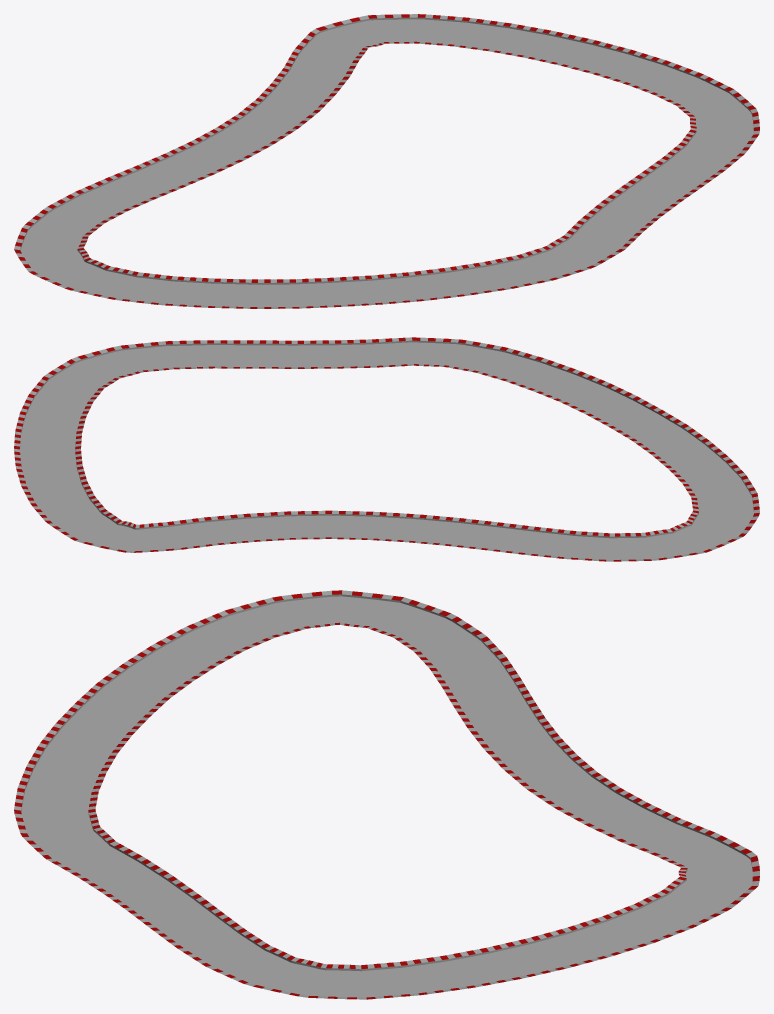
Rendered from track.obj.
The picture shows the model from 3 angles, top to bottom: view 1: azimuth 30°, elevation 25°; view 2: azimuth 150°, elevation 25°; view 3: azimuth 270°, elevation 25°; orthographic projection. The views are drawn at different scales.
Visible parts, largest first — view 1: Plane; view 2: Plane; view 3: Plane.
Boxes of the visible parts, x1,y1,x2,y2 form: Plane: [14, 14, 759, 308]; Plane: [14, 337, 759, 561]; Plane: [14, 590, 759, 999].
Bounding box in the file's own units: 159 × 0.5341 × 122.
